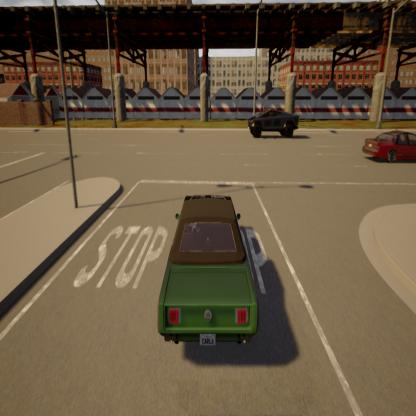Cars: (153, 176, 268, 350), (351, 123, 416, 167), (242, 102, 302, 148)
